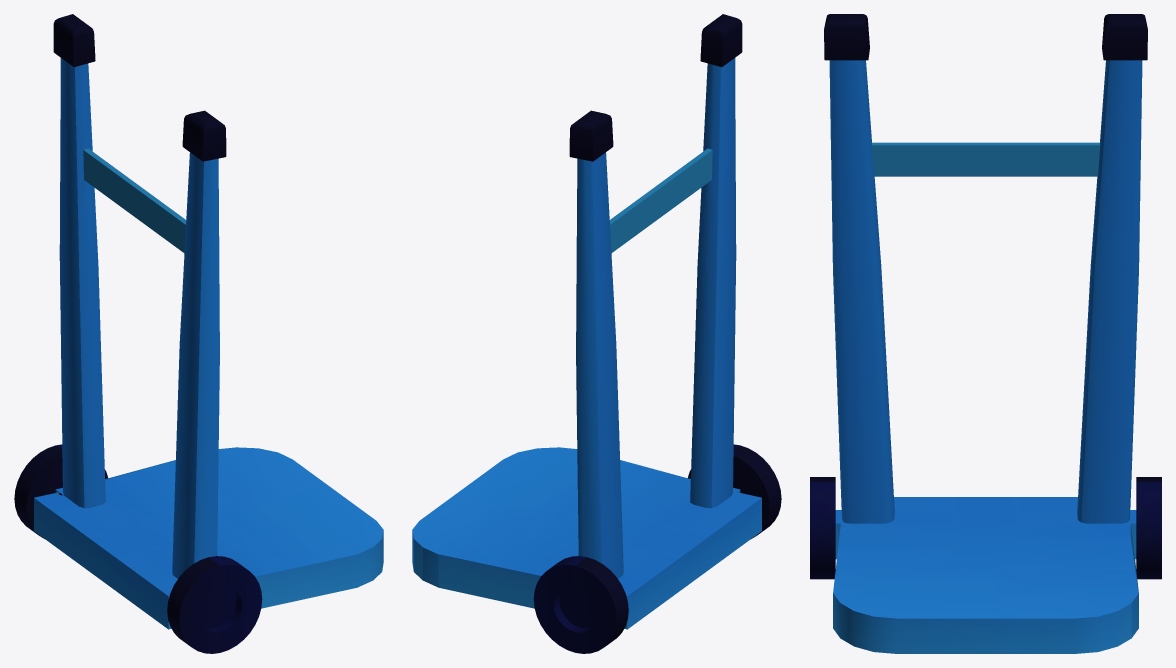
Rendered from barrow1.fbx.
3 views of the same model, side by side, from view 1: azimuth 30°, elevation 25°; view 2: azimuth 150°, elevation 25°; view 3: azimuth 270°, elevation 25° (orthographic). The views are drawn at different scales.
Parts seen in each view (by area): view 1: Cube; view 2: Cube; view 3: Cube.
Boxes of the visible parts, x1=… form: Cube: x1=14, y1=14, x2=383, y2=653; Cube: x1=412, y1=14, x2=781, y2=653; Cube: x1=810, y1=14, x2=1161, y2=653.
Bounding box in the file's own units: 250 × 525 × 300.
1 material, 1 textured.
